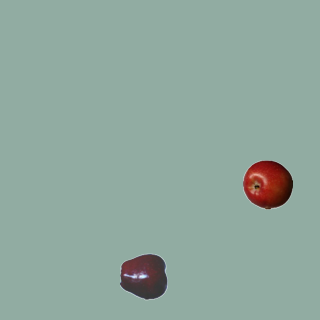Apple Braeburn: (242, 159, 292, 209)
Apple Red Delicious: (119, 251, 169, 301)
